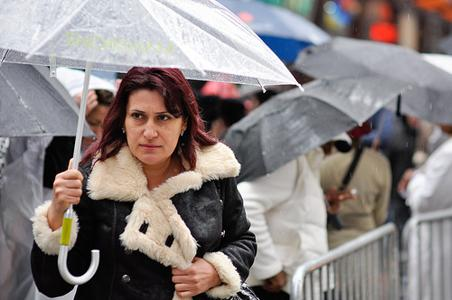person: (30, 67, 259, 300)
